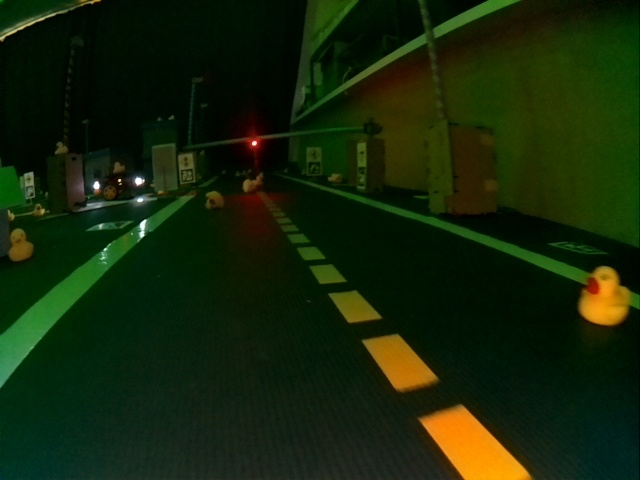Duckie: (580, 266, 627, 326), (8, 229, 33, 260), (205, 191, 223, 209), (243, 180, 255, 191), (34, 203, 43, 213), (113, 162, 122, 172), (55, 142, 64, 151), (335, 175, 342, 183)
Duckiebot: (93, 173, 145, 200)
Intersection sign: (357, 144, 366, 164), (307, 148, 321, 160)
QR code: (552, 238, 603, 256), (88, 221, 133, 230), (357, 166, 366, 189), (307, 162, 322, 175), (180, 169, 194, 182)
Signal sign: (179, 155, 193, 168)
Traffic light: (250, 138, 260, 148)
